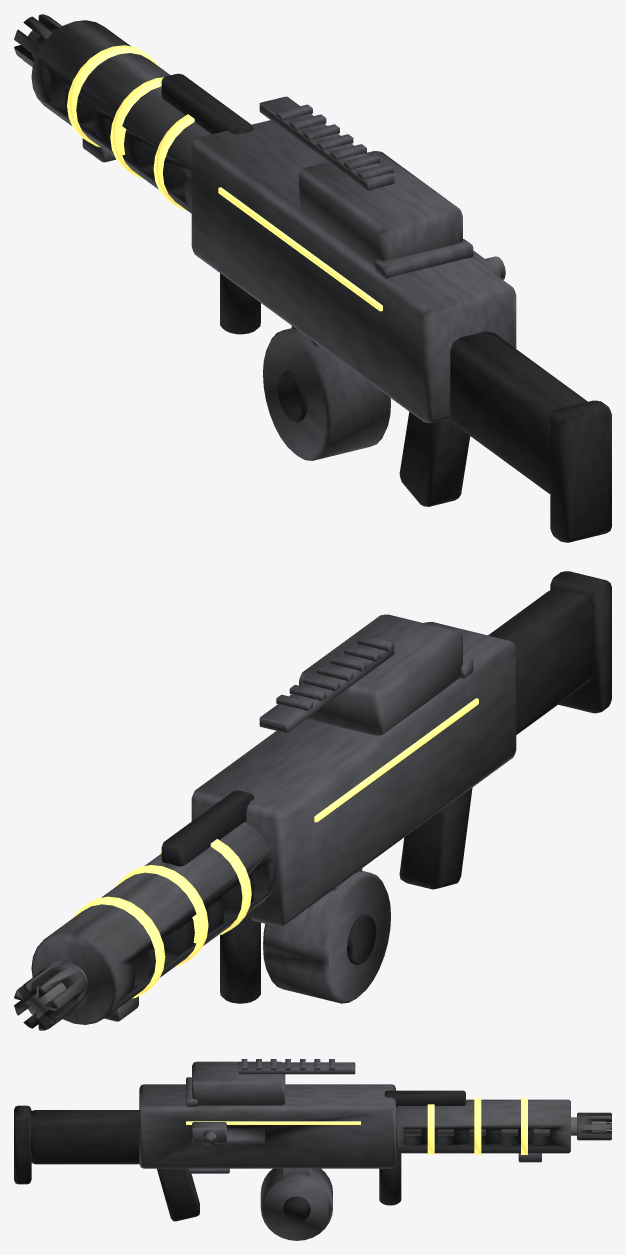
The model's file is heavy.glb.
3 views of the same model, one above another, from view 1: azimuth 30°, elevation 25°; view 2: azimuth 150°, elevation 25°; view 3: azimuth 270°, elevation 25° (orthographic). The views are drawn at different scales.
Parts seen in each view (by area): view 1: HeavyBody, HeavyMag, HeavyAccent; view 2: HeavyBody, HeavyMag, HeavyAccent; view 3: HeavyBody, HeavyMag, HeavyAccent, HeavyAction.
Boxes of the visible parts, <box> form: HeavyBody: <box>14,14,611,542</box>; HeavyMag: <box>263,326,390,460</box>; HeavyAccent: <box>67,45,382,311</box>; HeavyBody: <box>14,571,611,1030</box>; HeavyMag: <box>263,868,390,1003</box>; HeavyAccent: <box>72,698,478,998</box>; HeavyBody: <box>14,1059,611,1221</box>; HeavyMag: <box>260,1168,332,1240</box>; HeavyAccent: <box>186,1098,527,1154</box>; HeavyAction: <box>192,1122,226,1145</box>.
Bounding box in the file's own units: 0.151 × 0.322 × 1.02.
Materials: 2 (1 with a texture image).
